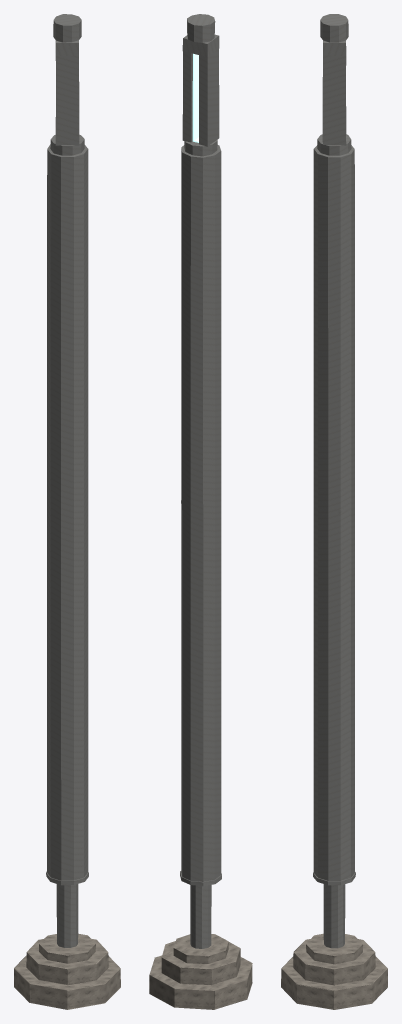
File: spindle_landmark.glb
The picture shows the model from 3 angles, left to right: view 1: azimuth 90°, elevation 25°; view 2: azimuth 150°, elevation 25°; view 3: azimuth 270°, elevation 25°; orthographic projection.
Parts seen in each view (by area): view 1: SpindleLandmark; view 2: SpindleLandmark; view 3: SpindleLandmark.
Part boxes in pixels (x1=…): SpindleLandmark: x1=14, y1=14, x2=120, y2=1009; SpindleLandmark: x1=149, y1=14, x2=252, y2=1009; SpindleLandmark: x1=281, y1=14, x2=387, y2=1009.
Bounding box in the file's own units: 3.38 × 33.62 × 3.36.
Materials: 3 (2 with a texture image).
